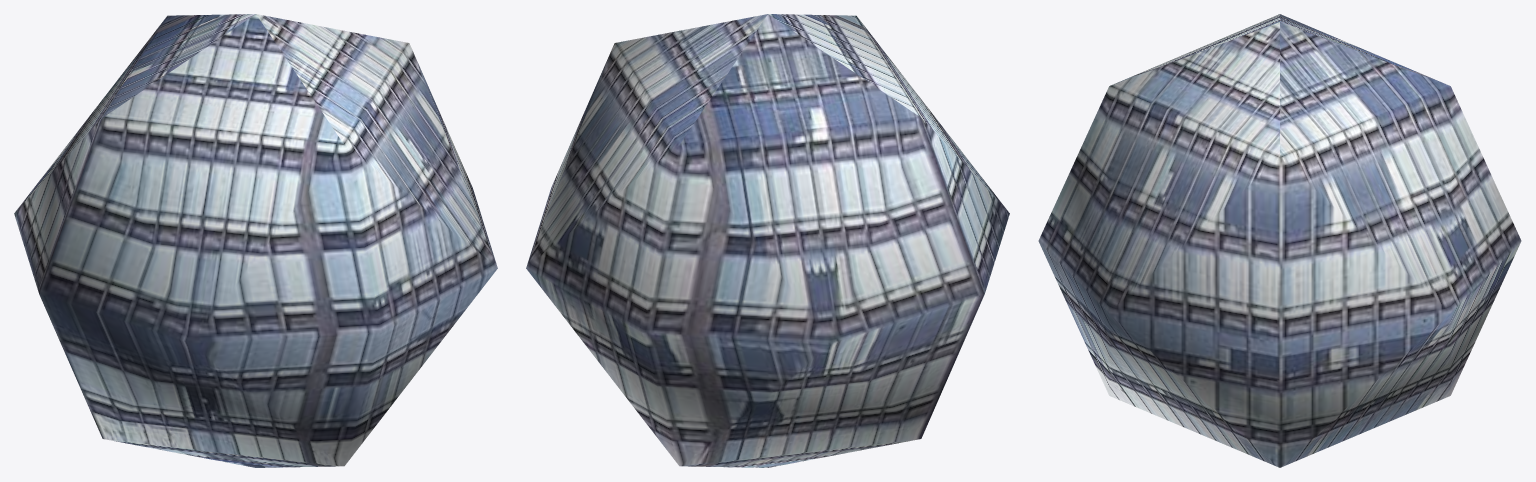
3 renders of one model, left to right at view 1: azimuth 30°, elevation 25°; view 2: azimuth 150°, elevation 25°; view 3: azimuth 270°, elevation 25°, orthographic. The views are drawn at different scales.
Parts seen in each view (by area): view 1: GeoSphere001; view 2: GeoSphere001; view 3: GeoSphere001.
Boxes of the visible parts, bbox=[...] form: GeoSphere001: bbox=[14, 14, 497, 467]; GeoSphere001: bbox=[526, 14, 1009, 467]; GeoSphere001: bbox=[1038, 14, 1521, 467].
Bounding box in the file's own units: 62.82 × 62.82 × 62.82.
